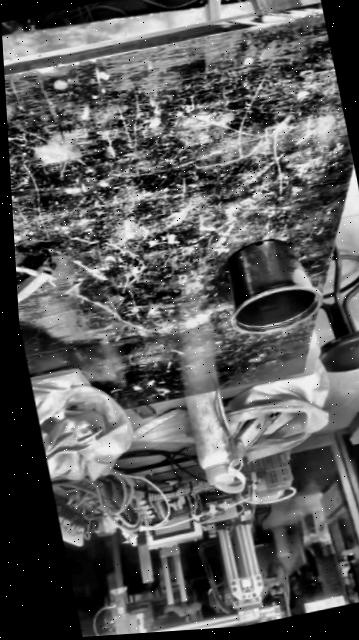pot: (216, 230, 324, 339)
